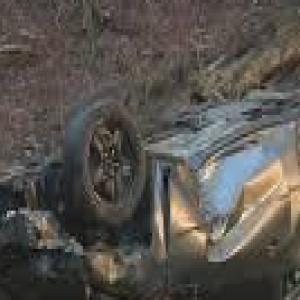severe: (0, 32, 300, 300)
